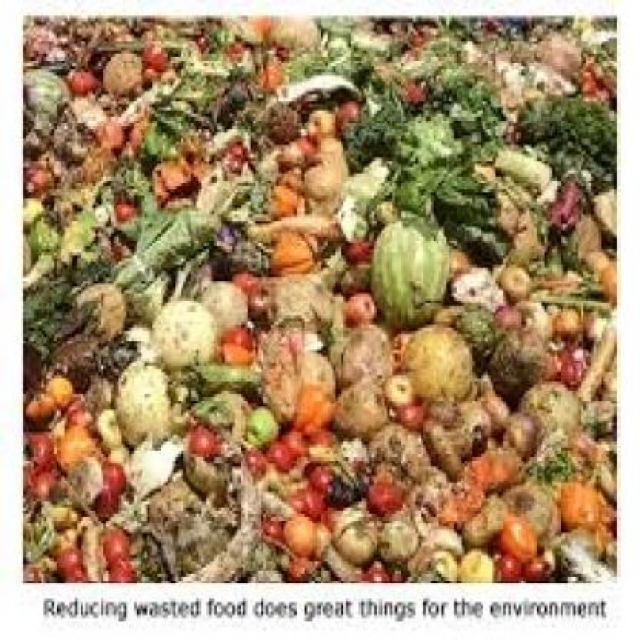garbage: (23, 15, 614, 580)
